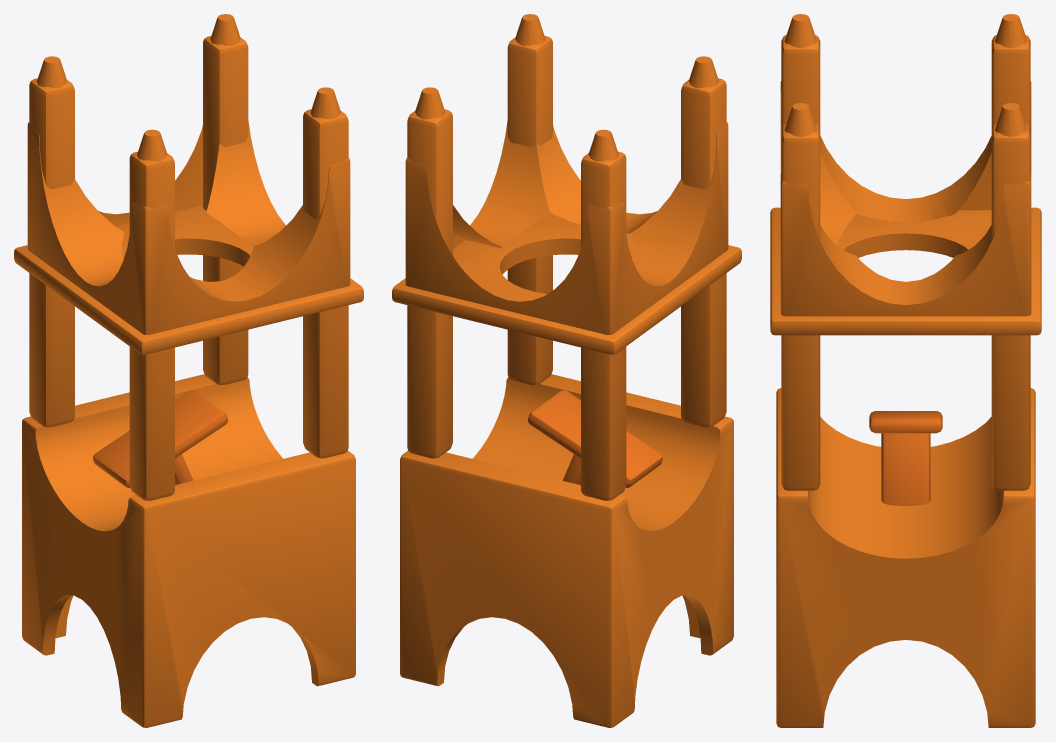
3 views of the same model, side by side, from view 1: azimuth 30°, elevation 25°; view 2: azimuth 150°, elevation 25°; view 3: azimuth 270°, elevation 25° (orthographic). The views are drawn at different scales.
Parts seen in each view (by area): view 1: M-04__5716, flap; view 2: M-04__5716, flap; view 3: M-04__5716, flap.
Boxes of the visible parts, x1,y1,x2,y2 form: M-04__5716: (14,14,363,727); flap: (93,390,227,487); M-04__5716: (392,14,741,727); flap: (528,390,662,487); M-04__5716: (770,14,1041,727); flap: (869,411,942,506).
Bounding box in the file's own units: 0.0443 × 0.1103 × 0.0443.
